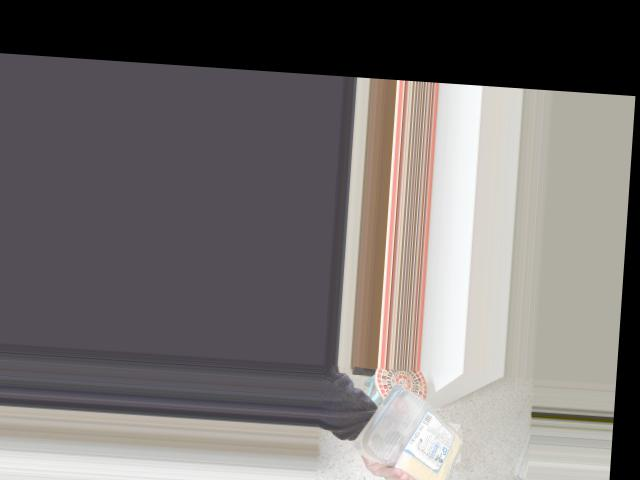cheese: (364, 381, 476, 480)
